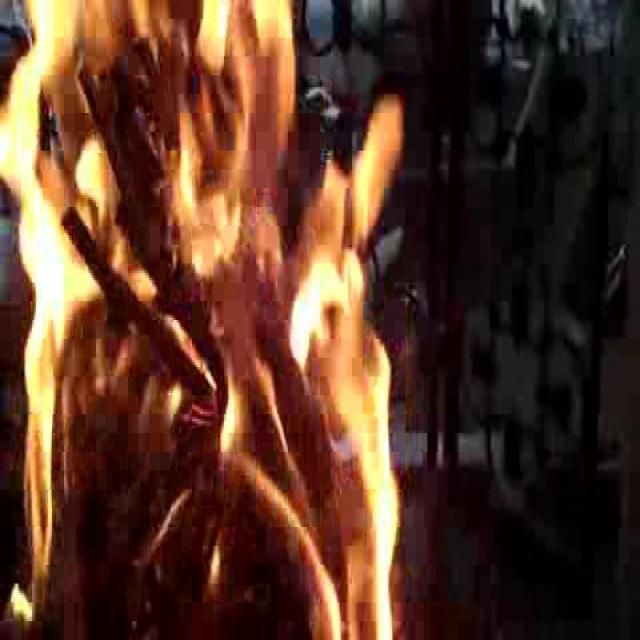Fire: (10, 2, 410, 618)
